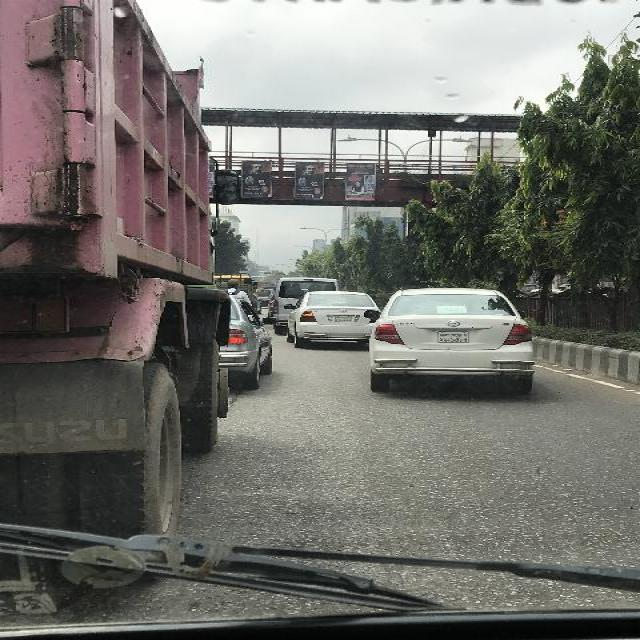vehicle: (367, 289, 542, 400), (285, 293, 381, 350), (270, 277, 303, 331)
